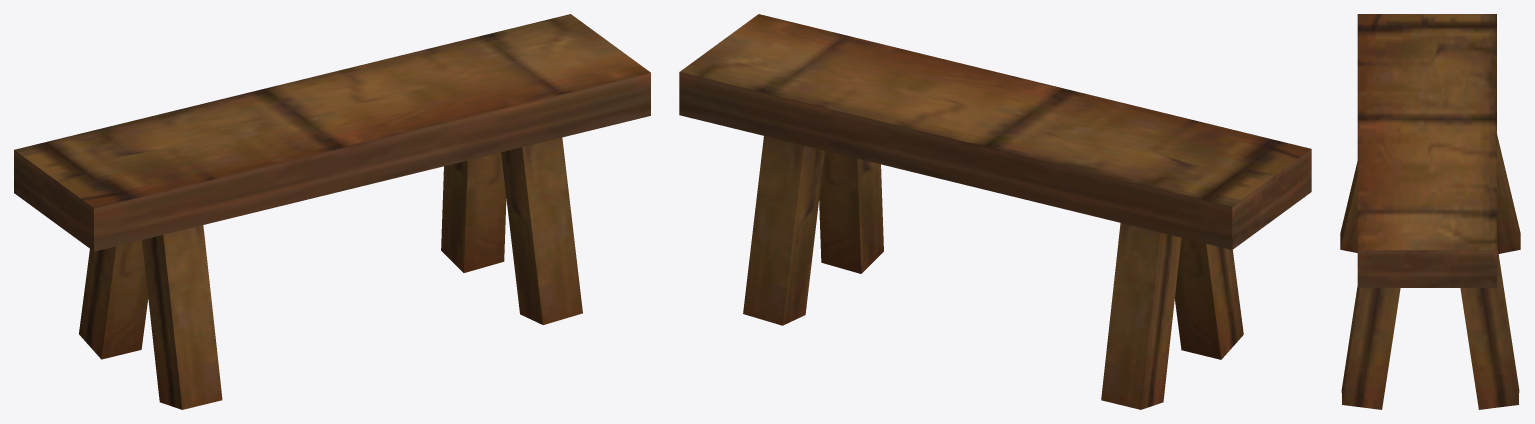
The model's file is shamo_wujian_yizi.fbx.
The picture shows the model from 3 angles, left to right: view 1: azimuth 30°, elevation 25°; view 2: azimuth 150°, elevation 25°; view 3: azimuth 270°, elevation 25°; orthographic projection. The views are drawn at different scales.
Visible parts, largest first — view 1: polySurface329; view 2: polySurface329; view 3: polySurface329.
Boxes of the visible parts, x1,y1,x2,y2 form: polySurface329: [14, 14, 650, 409]; polySurface329: [679, 14, 1311, 409]; polySurface329: [1340, 14, 1520, 409].
Bounding box in the file's own units: 1.77 × 0.6787 × 0.5707.
